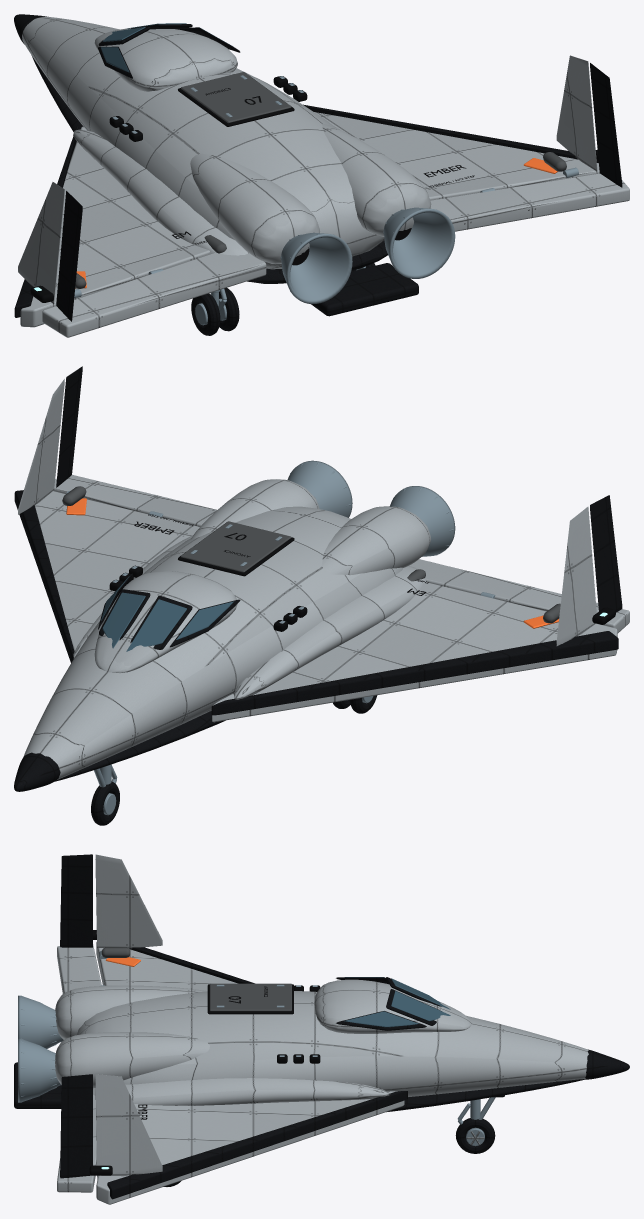
File: Ember.fbx
3 views of the same model, one above another, from view 1: azimuth 30°, elevation 25°; view 2: azimuth 150°, elevation 25°; view 3: azimuth 270°, elevation 25° (orthographic). The views are drawn at different scales.
Parts seen in each view (by area): view 1: Airframe Ceramic, Airframe Titanium, Airframe ThermalCarbon, Elevon thermal sandwich, Elevon thermal sandwich.001, Ventral body flap, Split wingtip drag rudder.001, Split wingtip drag rudder, Airframe Cockpit, Grooved tire, Grooved tire.001; view 2: Airframe Ceramic, Airframe ThermalCarbon, Airframe Titanium, Airframe Cockpit, Elevon thermal sandwich, Elevon thermal sandwich.001, Split wingtip drag rudder, Split wingtip drag rudder.001, Grooved tire.004; view 3: Airframe Ceramic, Airframe ThermalCarbon, Airframe Titanium, Split wingtip drag rudder.001, Split wingtip drag rudder, Airframe Cockpit, Elevon thermal sandwich, Elevon thermal sandwich.001, Grooved tire.004, Ventral body flap.
Part boxes in pixels (x1,y1,x2,y2): Airframe Ceramic: (18,16,599,327); Airframe Titanium: (74,75,578,304); Airframe ThermalCarbon: (14,14,598,317); Elevon thermal sandwich: (42,252,266,337); Elevon thermal sandwich.001: (430,173,629,231); Ventral body flap: (311,263,418,316); Split wingtip drag rudder.001: (590,63,622,187); Split wingtip drag rudder: (56,191,82,321); Airframe Cockpit: (101,23,231,72); Grooved tire: (191,293,220,335); Grooved tire.001: (219,287,239,331); Airframe Ceramic: (18,379,617,779); Airframe ThermalCarbon: (14,490,618,791); Airframe Titanium: (66,460,495,623); Airframe Cockpit: (101,576,233,651); Elevon thermal sandwich: (409,559,629,633); Elevon thermal sandwich.001: (54,474,216,526); Split wingtip drag rudder: (590,495,622,612); Split wingtip drag rudder.001: (56,366,82,487); Grooved tire.004: (91,781,119,825); Airframe Ceramic: (55,854,588,1204); Airframe ThermalCarbon: (89,930,629,1199); Airframe Titanium: (18,950,317,1102); Split wingtip drag rudder.001: (60,1074,92,1178); Split wingtip drag rudder: (60,854,92,947); Airframe Cockpit: (344,977,450,1027); Elevon thermal sandwich: (57,944,101,993); Elevon thermal sandwich.001: (57,1094,96,1192); Grooved tire.004: (455,1118,495,1153); Ventral body flap: (14,1062,61,1108).
Bounding box in the file's own units: 728 × 254 × 749.
Materials: 6 (2 with a texture image).
